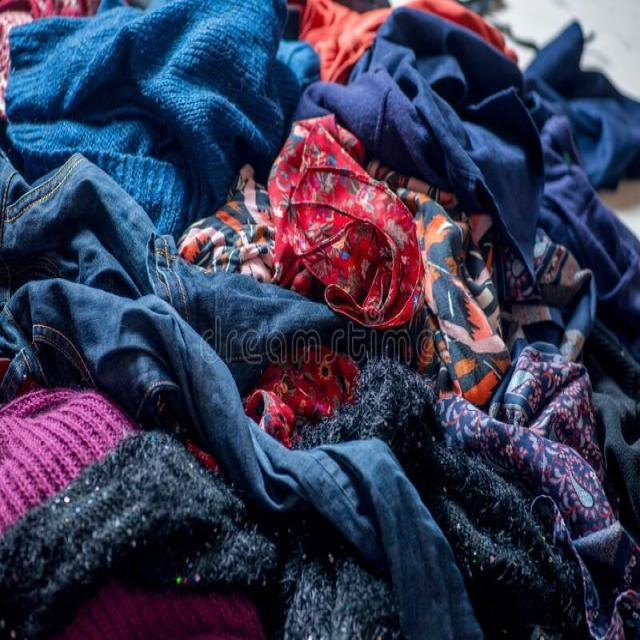clothes: (110, 116, 480, 453)
